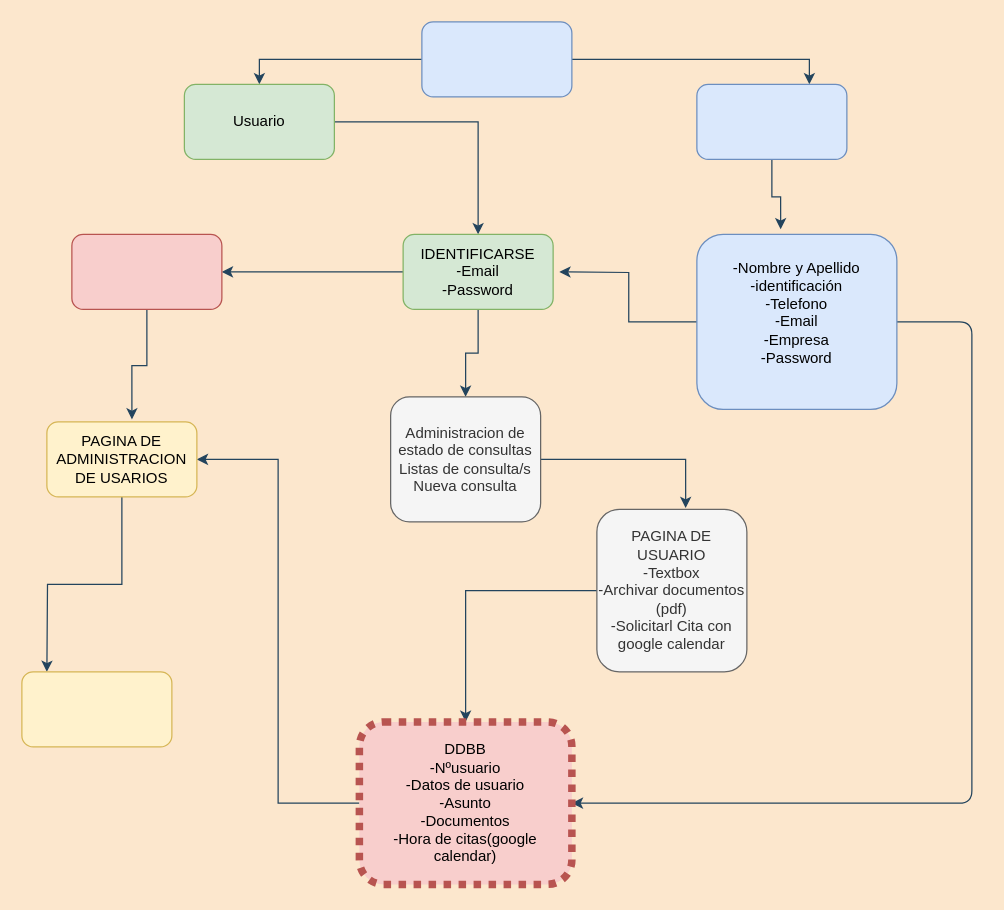
This 1004x910 diagram has some shape labels left out. The shapes that lost their labels are listed below. From the top down, each one's box as (x1, y1, x2, y2) in pixels, then its label:
(421, 21, 572, 97): PAGINA PRINCIPAL
(696, 83, 847, 159): Nuevo usuario
(71, 233, 222, 309): Login de Administrador
(21, 671, 172, 747): Detalles de Usuario
